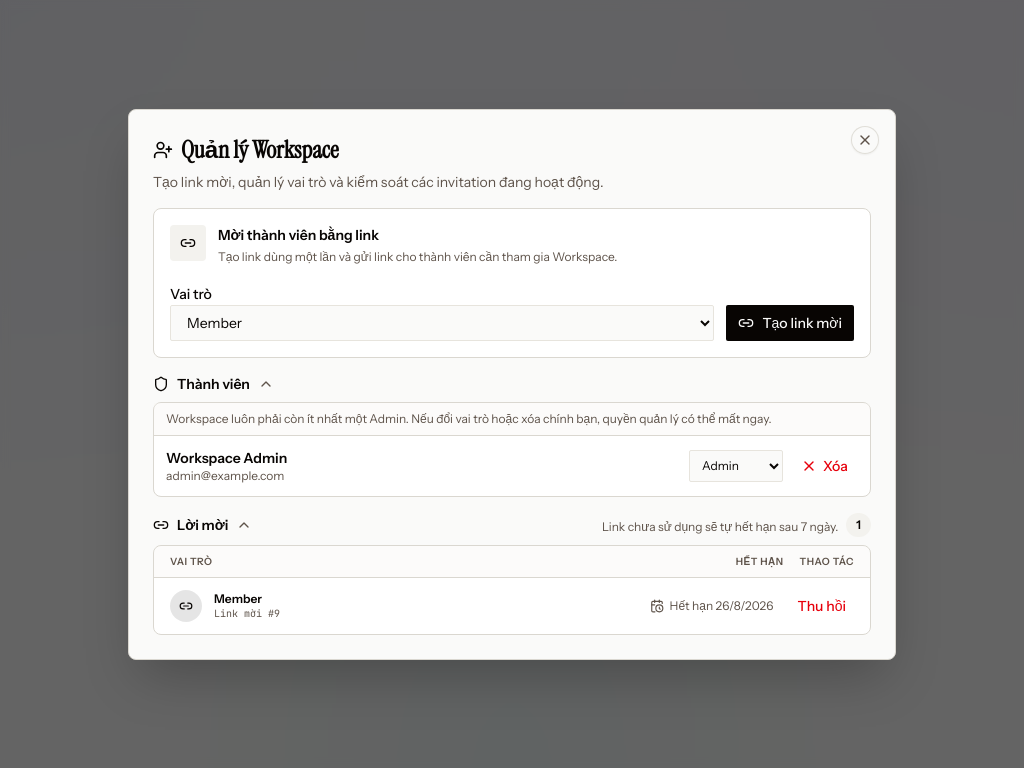
Test: WorkspaceManagementModal › can collapse and expand members and invitations independently
The width and height of the screenshot is (1024, 768).
Expected: the text "Link mời #9" is shown, top-left (214, 607), bottom-right (280, 620)
Click the button "Thành viên" at (214, 384), box top-left (153, 374), bottom-right (274, 394)
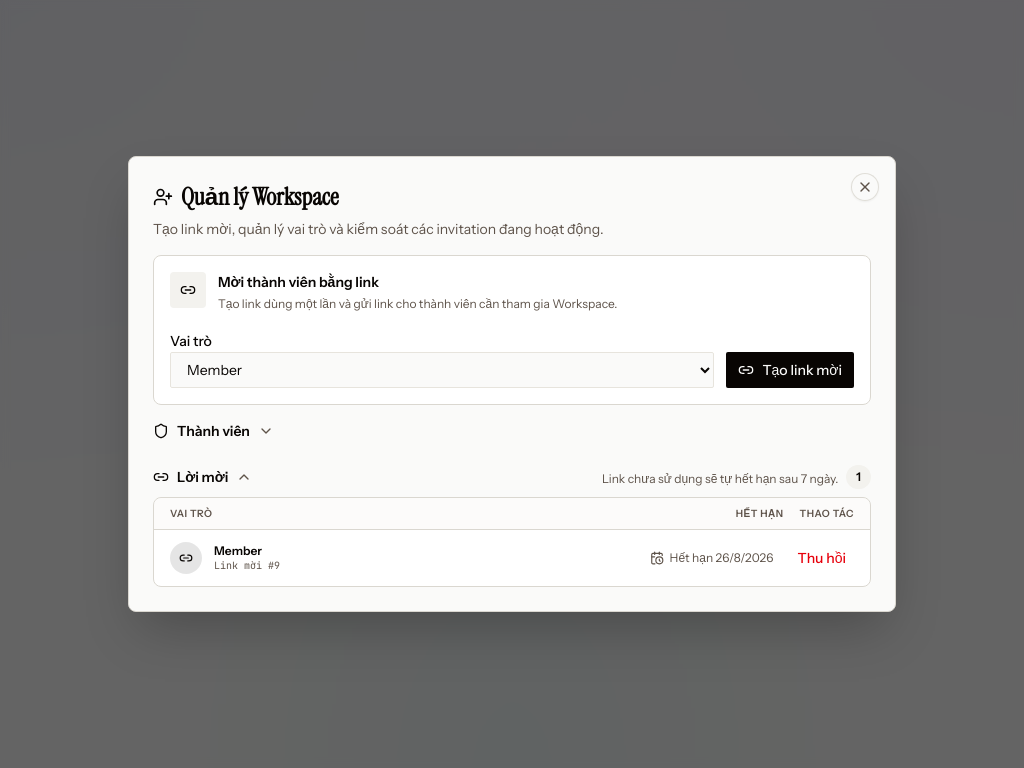
Click the button "Lời mời" at (203, 477), box top-left (153, 467), bottom-right (252, 487)
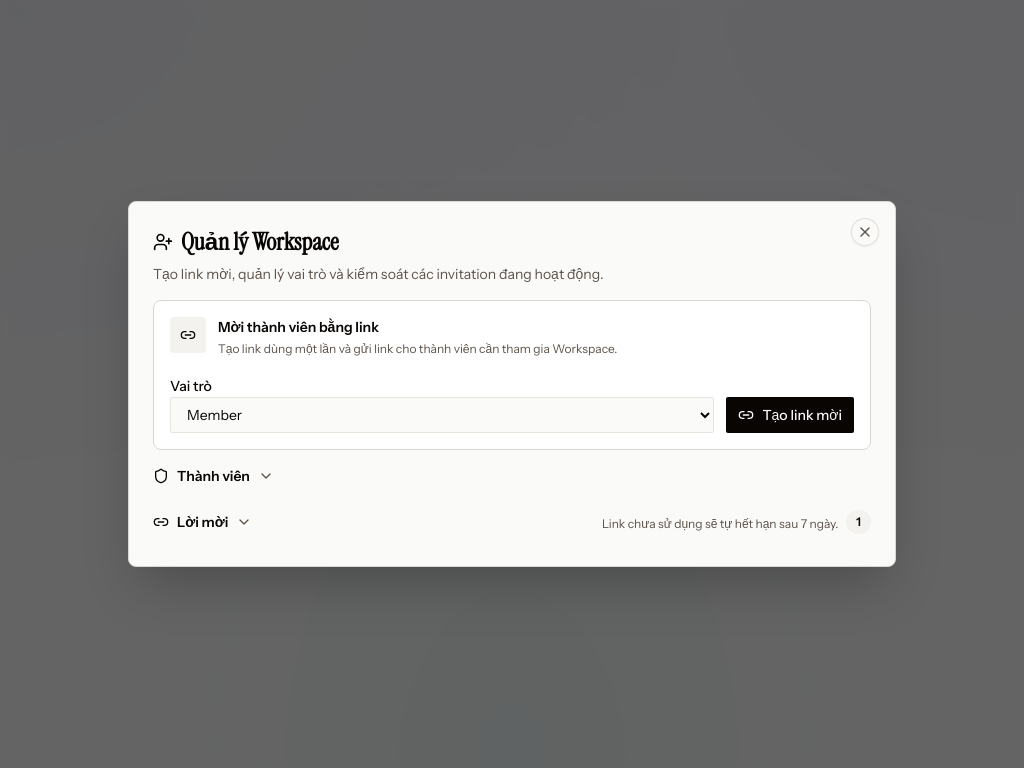
Expected: the text "Link mời #9" is gone
Click the button "Thành viên" at (214, 476), box top-left (153, 466), bottom-right (274, 486)
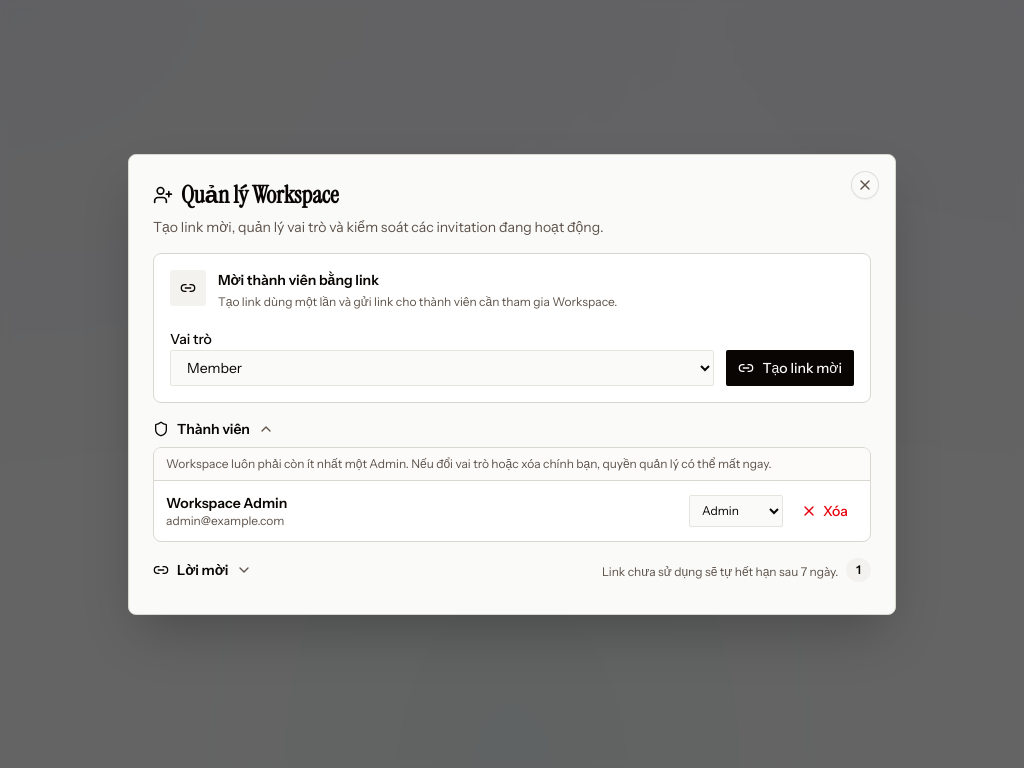
Expected: the text "admin@example.com" is shown, top-left (166, 512), bottom-right (287, 528)
Click the button "Lời mời" at (203, 570), box top-left (153, 560), bottom-right (252, 580)
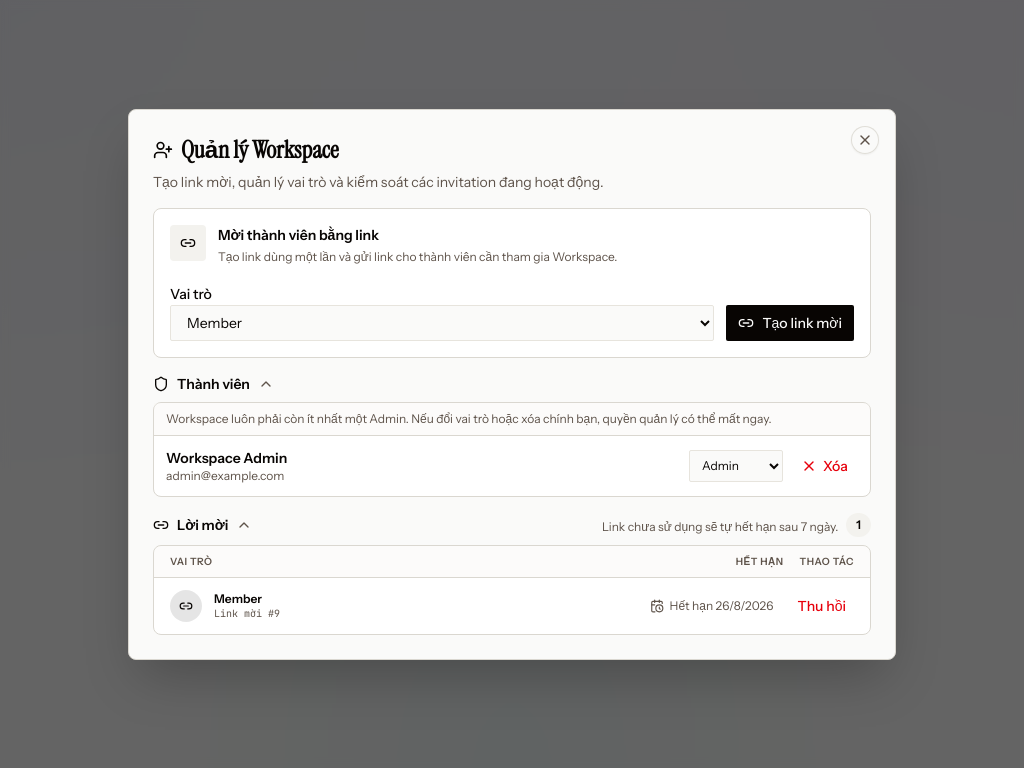
Expected: the text "Link mời #9" is shown, top-left (214, 607), bottom-right (280, 620)
